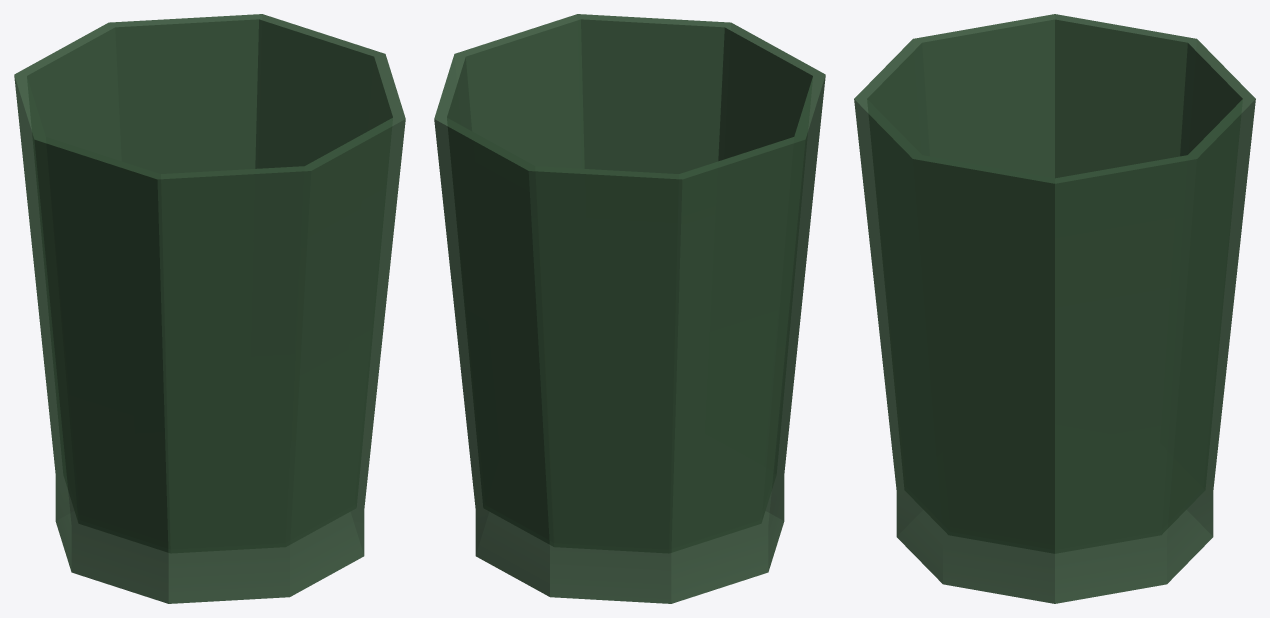
File: Glass.fbx
3 renders of one model, left to right at view 1: azimuth 30°, elevation 25°; view 2: azimuth 150°, elevation 25°; view 3: azimuth 270°, elevation 25°, orthographic.
Parts seen in each view (by area): view 1: pCylinder1, pCylinder2; view 2: pCylinder1, pCylinder2; view 3: pCylinder1, pCylinder2.
Boxes of the visible parts, x1=… form: pCylinder1: x1=14, y1=14, x2=405, y2=603; pCylinder2: x1=27, y1=19, x2=392, y2=173; pCylinder1: x1=434, y1=14, x2=825, y2=603; pCylinder2: x1=447, y1=19, x2=812, y2=173; pCylinder1: x1=854, y1=14, x2=1255, y2=603; pCylinder2: x1=867, y1=19, x2=1242, y2=178.
Size of the model in its own units: 2 by 2.41 by 2.
